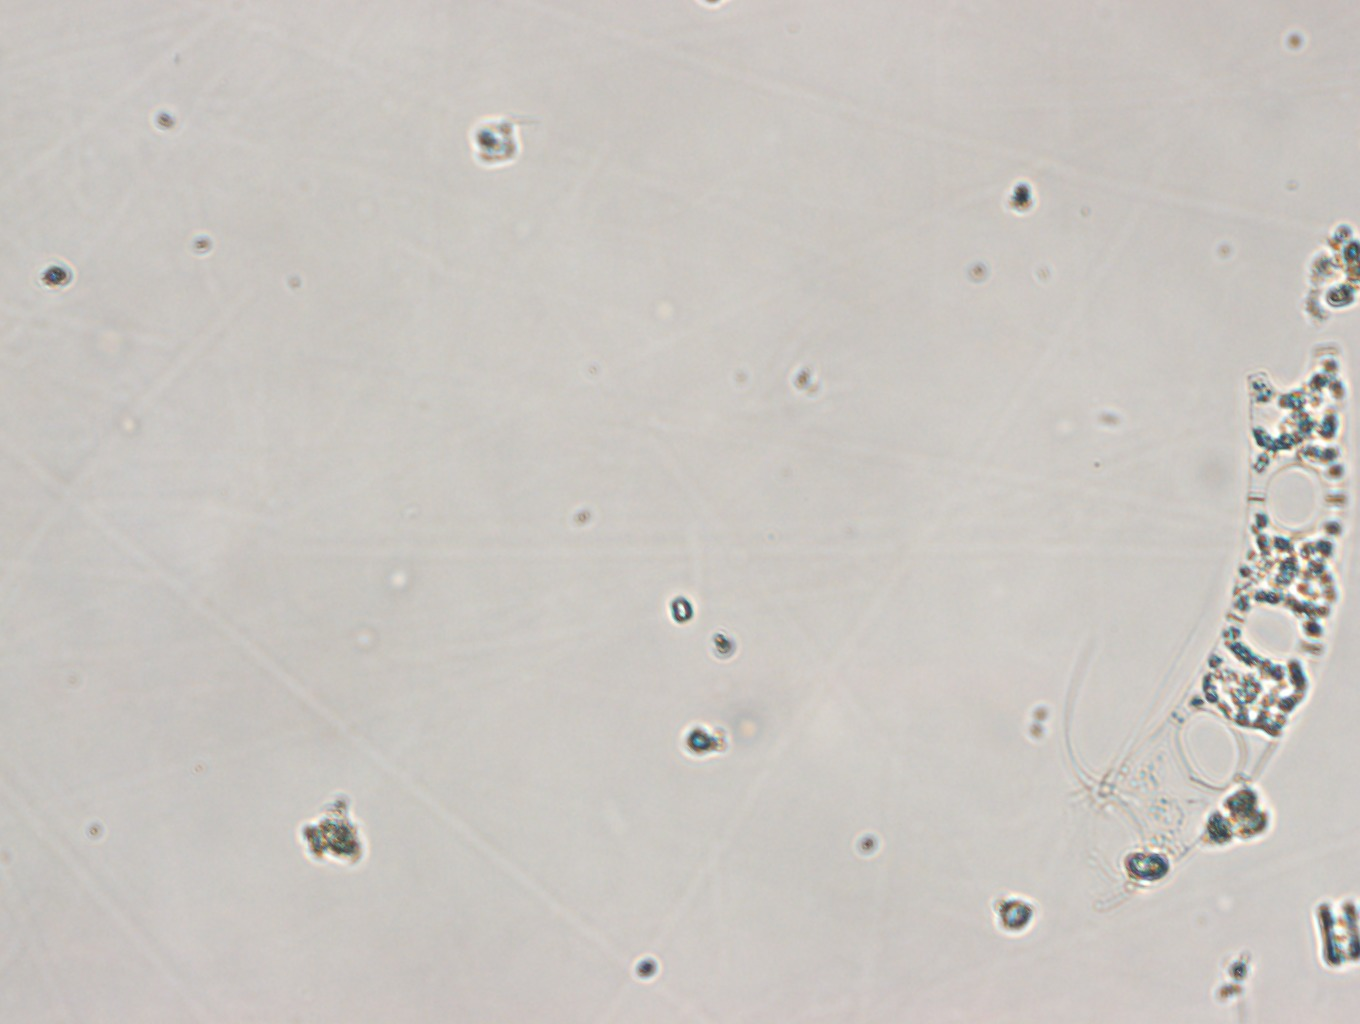eucampia: (1103, 349, 1360, 865)
